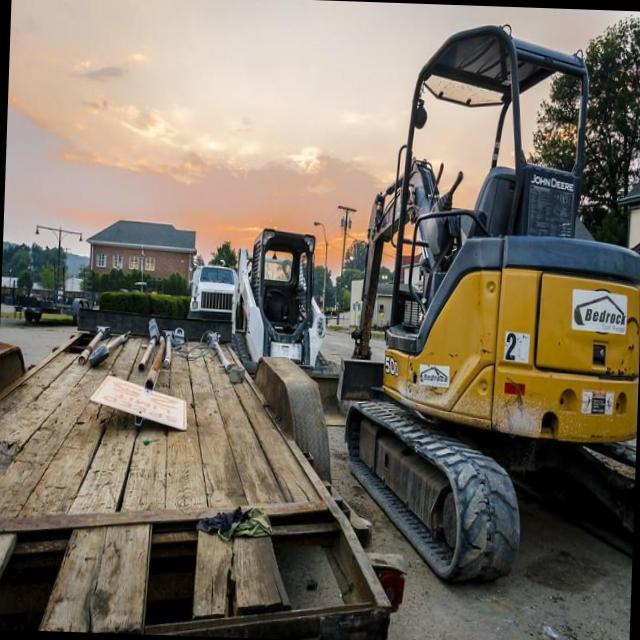Camion volquete: (188, 262, 238, 323)
Excavadora: (331, 19, 640, 597)
pala cargadora: (230, 226, 362, 427)
